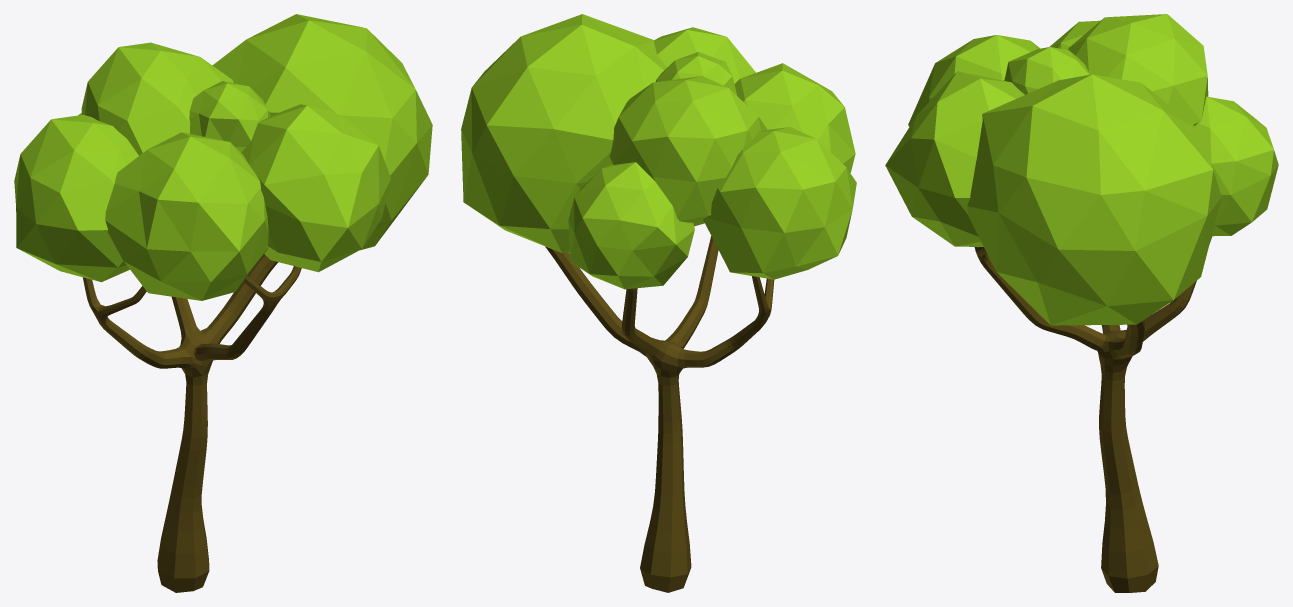
File: tree2.fbx
The picture shows the model from 3 angles, left to right: view 1: azimuth 30°, elevation 25°; view 2: azimuth 150°, elevation 25°; view 3: azimuth 270°, elevation 25°; orthographic projection. The views are drawn at different scales.
Parts seen in each view (by area): view 1: Icosphere, Plane; view 2: Icosphere, Plane; view 3: Icosphere, Plane.
Boxes of the visible parts, left/top/right/bottom form: Icosphere: left=14, top=14, right=432, bottom=300; Plane: left=83, top=254, right=301, bottom=592; Icosphere: left=461, top=14, right=856, bottom=289; Plane: left=545, top=236, right=774, bottom=592; Icosphere: left=885, top=14, right=1278, bottom=325; Plane: left=974, top=236, right=1211, bottom=592.
Size of the model in its own units: 1301 by 1782 by 1112.
